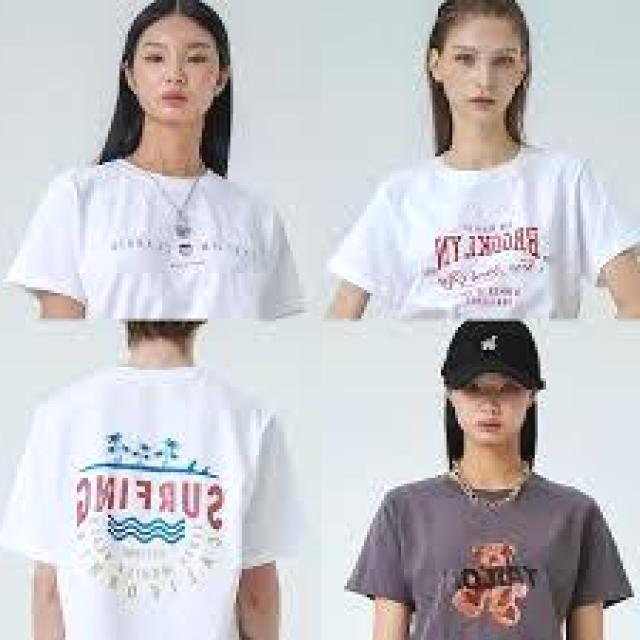Tshirt: (3, 358, 321, 640), (2, 142, 312, 318), (322, 144, 640, 314), (336, 475, 634, 640)
